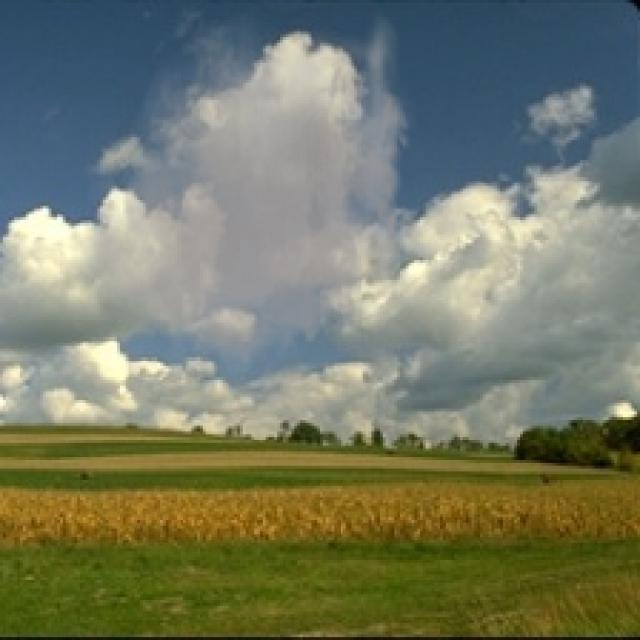Smoke: (80, 3, 426, 386)
